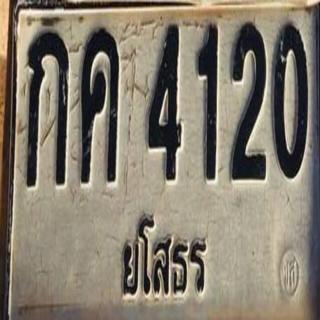A01: (25, 28, 73, 195)
A04: (76, 27, 121, 194)
N00: (272, 19, 314, 186)
N01: (191, 22, 224, 190)
N02: (228, 20, 270, 187)
N04: (143, 22, 189, 189)
P77: (114, 210, 212, 300)
